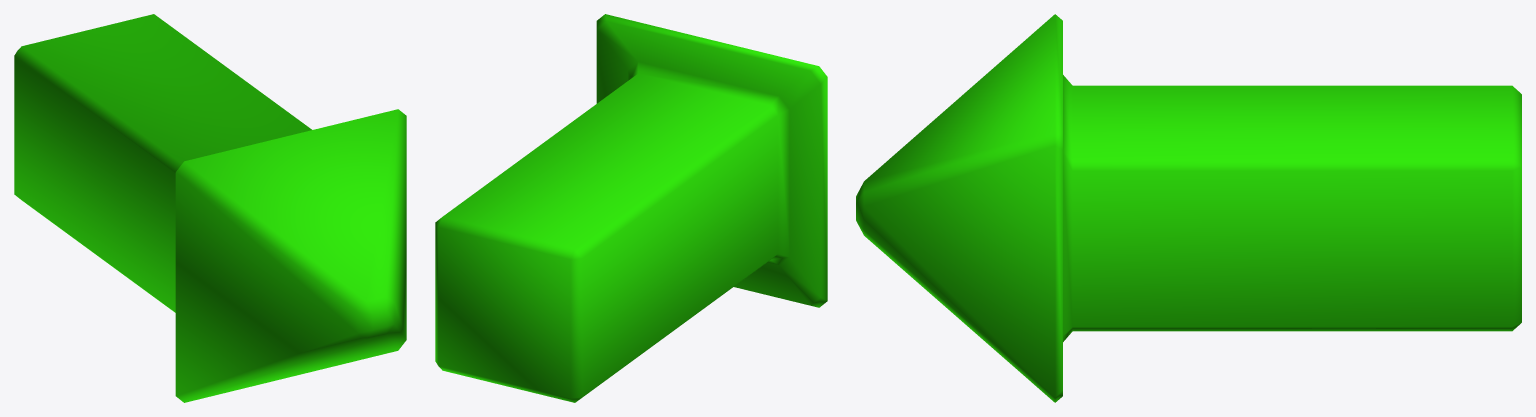
The model's file is Manual_Constraints_LockedTrack.fbx.
The picture shows the model from 3 angles, left to right: view 1: azimuth 30°, elevation 25°; view 2: azimuth 150°, elevation 25°; view 3: azimuth 270°, elevation 25°; orthographic projection. The views are drawn at different scales.
Visible parts, largest first — view 1: Compass.001; view 2: Compass.001; view 3: Compass.001.
Boxes of the visible parts, bbox=[...] form: Compass.001: bbox=[14, 14, 406, 402]; Compass.001: bbox=[435, 14, 827, 402]; Compass.001: bbox=[856, 14, 1521, 402].
Size of the model in its own units: 3.14 by 3.14 by 6.97.
